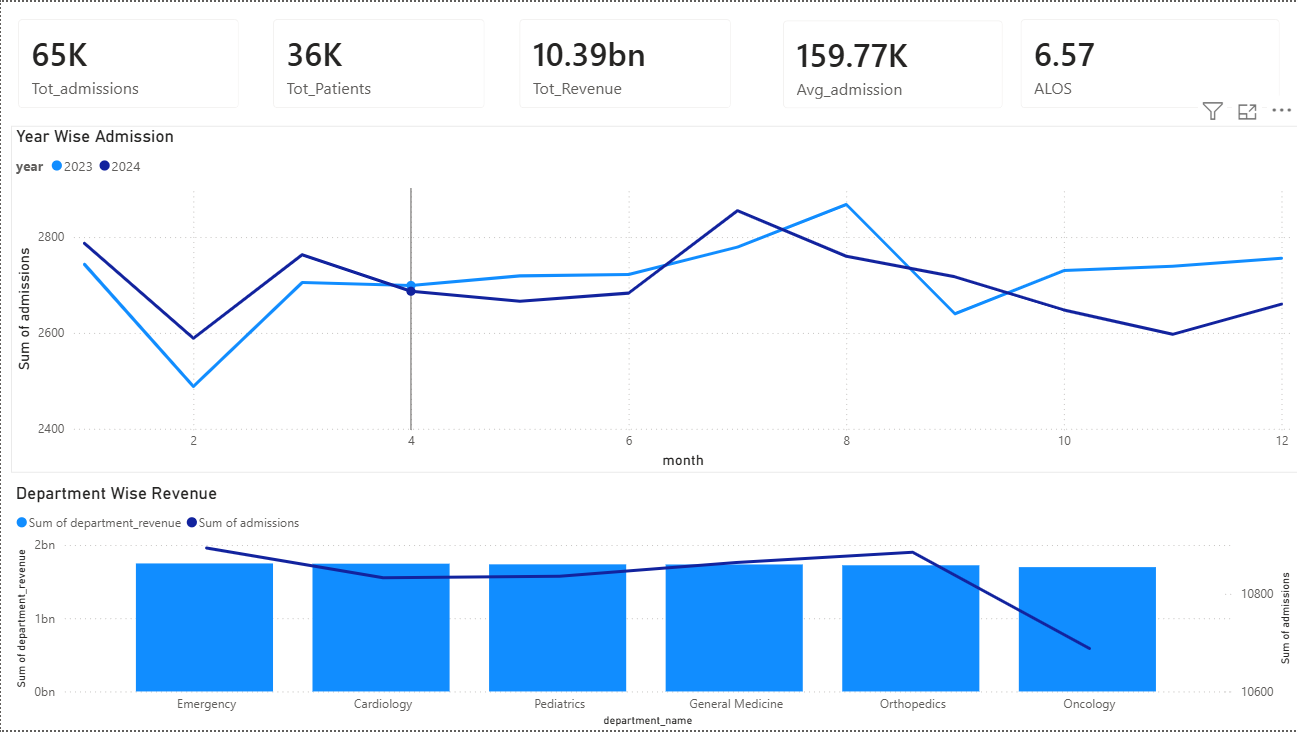

The dashboard page shown, as its layout file describes it:
{"tool":"powerbi","page":{"name":"Page 1","canvas":[1280,720],"ordinal":0},"visuals":[{"type":"cardVisual","fields":{"Data":["Sum(hospital_analytics vw_hospital_kpis.total_admissions)"]},"box":[0,0,252,139],"z":0},{"type":"cardVisual","title":"Tot_Patients","fields":{"Data":["Sum(hospital_analytics vw_hospital_kpis.total_patients)"]},"box":[252,0,243,151],"z":1000},{"type":"cardVisual","fields":{"Data":["Sum(hospital_analytics vw_hospital_kpis.total_revenue)"]},"box":[495,0,243,122],"z":2000},{"type":"cardVisual","fields":{"Data":["Avg(hospital_analytics vw_hospital_kpis.avg_cost_per_admission)"]},"box":[755,1,251,121],"z":3000},{"type":"cardVisual","fields":{"Data":["Sum(hospital_analytics vw_hospital_kpis.avg_length_of_stay)"]},"box":[990,0,290,122],"z":4000},{"type":"lineChart","title":"Year Wise Admission ","fields":{"Category":["hospital_analytics vw_monthly_trends.month"],"Y":["Sum(hospital_analytics vw_monthly_trends.admissions)"],"Series":["hospital_analytics vw_monthly_trends.year"]},"box":[10,122,1270,343],"z":5000},{"type":"lineClusteredColumnComboChart","title":"Department Wise Revenue ","fields":{"Category":["hospital_analytics vw_department_performance.department_name"],"Y":["Sum(hospital_analytics vw_department_performance.department_revenue)"],"Y2":["Sum(hospital_analytics vw_department_performance.admissions)"]},"box":[9.6,474.8,1270.7,245.6],"z":6000}]}

Visuals, with their boxes in screenshot pixels (x1, y1, x2, y2), scaled from the page's 1280x720 canvas onto the 1297x732 screenshot:
cardVisual - Sum(hospital_analytics vw_hospital_kpis.total_admissions): crop(0, 0, 255, 141)
"Tot_Patients" cardVisual: crop(255, 0, 502, 154)
cardVisual - Sum(hospital_analytics vw_hospital_kpis.total_revenue): crop(502, 0, 748, 124)
cardVisual - Avg(hospital_analytics vw_hospital_kpis.avg_cost_per_admission): crop(765, 1, 1019, 124)
cardVisual - Sum(hospital_analytics vw_hospital_kpis.avg_length_of_stay): crop(1003, 0, 1296, 124)
"Year Wise Admission " lineChart: crop(10, 124, 1296, 473)
"Department Wise Revenue " lineClusteredColumnComboChart: crop(10, 483, 1296, 731)
